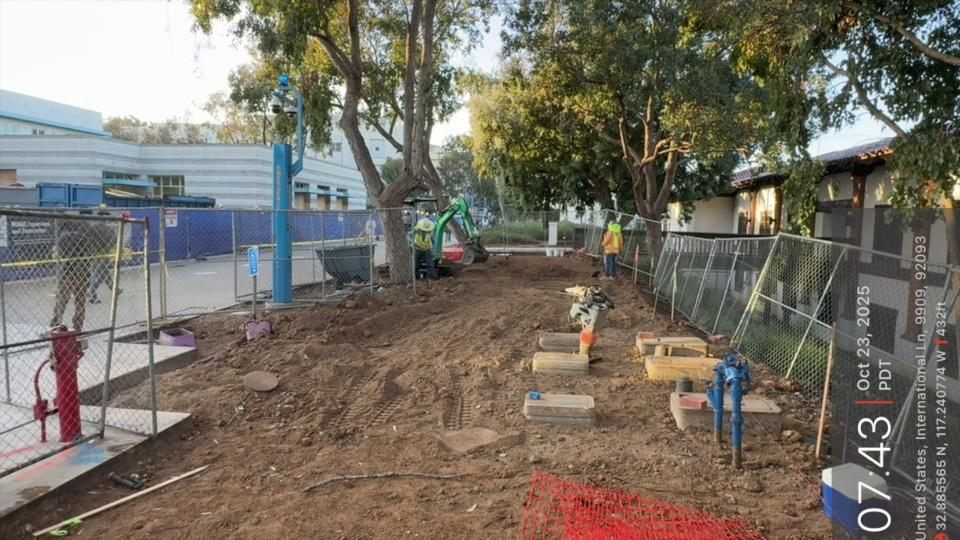Exacavator: (406, 180, 507, 288)
